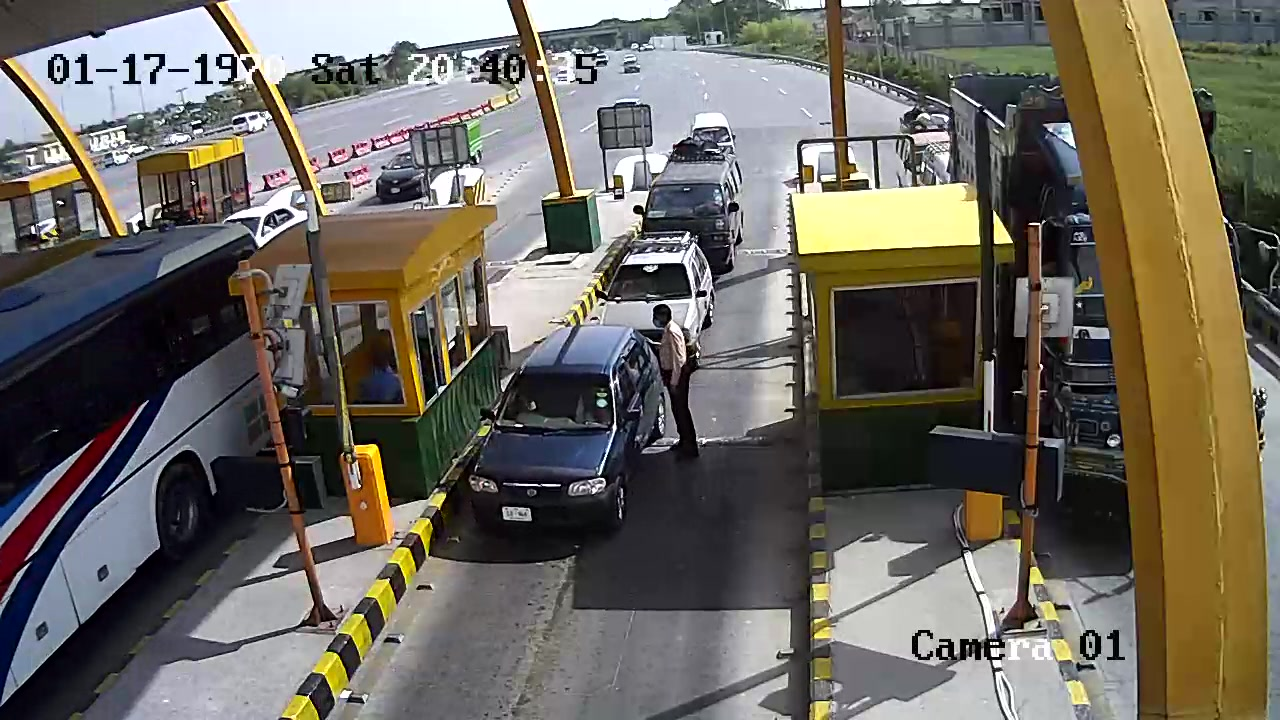F1: (469, 319, 677, 557), (571, 229, 726, 383)
